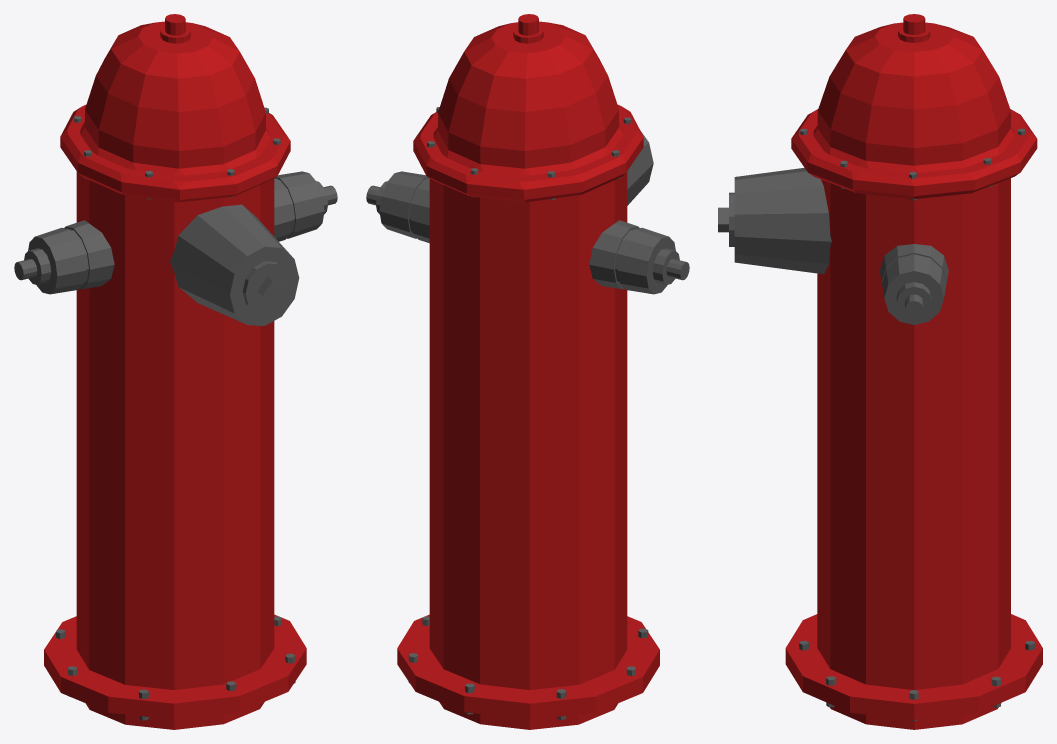
File: LP_cityasset_firehydrant.glb
3 views of the same model, side by side, from view 1: azimuth 30°, elevation 25°; view 2: azimuth 150°, elevation 25°; view 3: azimuth 270°, elevation 25° (orthographic).
Visible parts, largest first — view 1: base; view 2: base; view 3: base.
Boxes of the visible parts, <box> form: base: <box>14,14,337,729</box>; base: <box>366,14,689,729</box>; base: <box>729,14,1042,729</box>.
Bounding box in the file's own units: 3.76 × 7.67 × 3.37.
